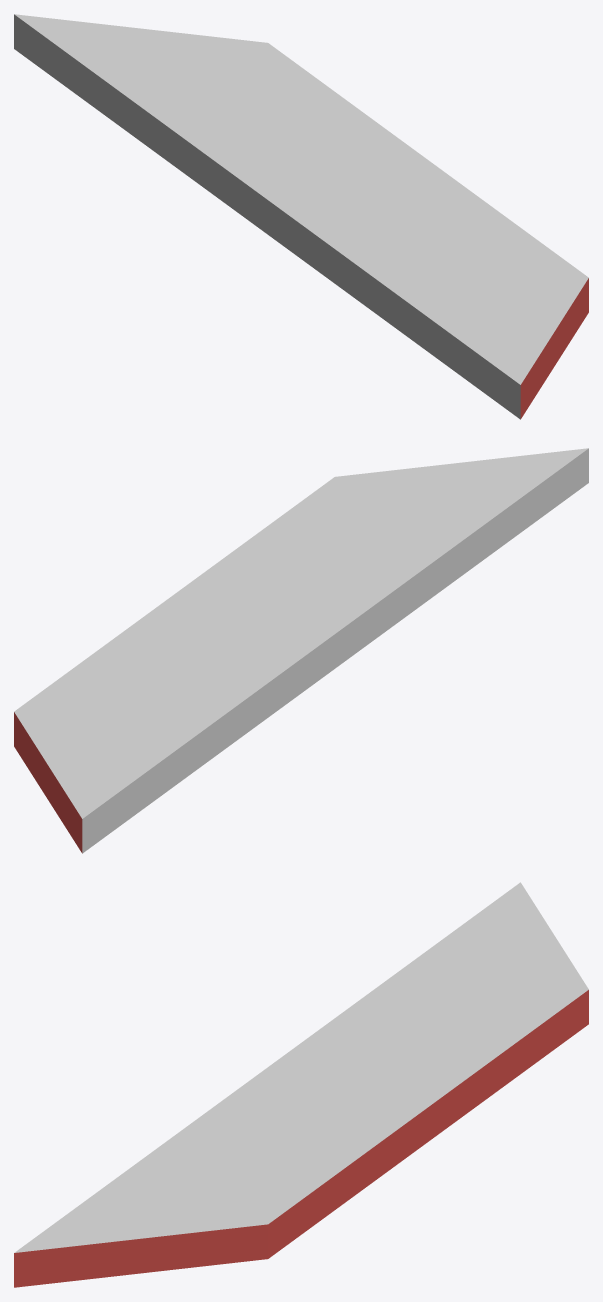
The model's file is toll_edge.dae.
3 views of the same model, one above another, from view 1: azimuth 30°, elevation 25°; view 2: azimuth 150°, elevation 25°; view 3: azimuth 330°, elevation 25° (orthographic).
Visible parts, largest first — view 1: toll_edge_a400; view 2: toll_edge_a400; view 3: toll_edge_a400.
Part boxes in pixels (<box>): toll_edge_a400: <box>14,14,588,419</box>; toll_edge_a400: <box>14,448,588,853</box>; toll_edge_a400: <box>14,882,588,1287</box>.
Bounding box in the file's own units: 2.43 × 13.24 × 0.5.
